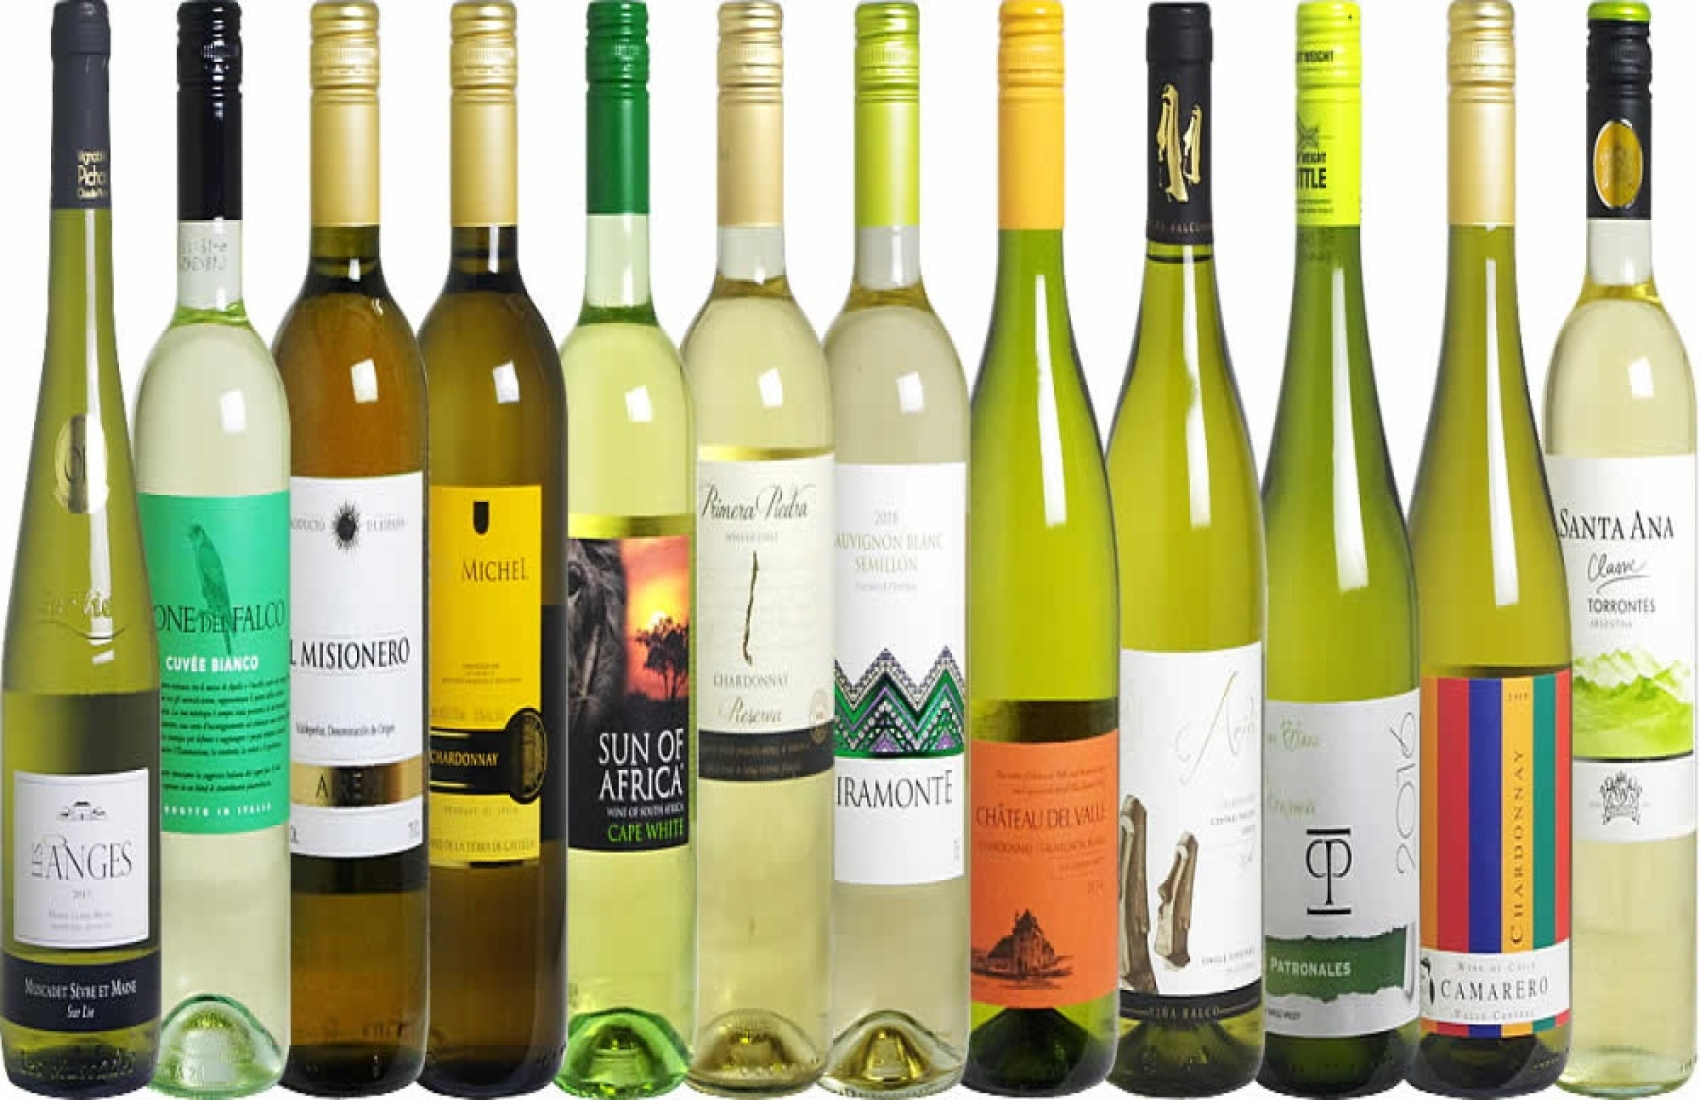wine: (694, 24, 838, 1086), (1118, 24, 1261, 1086), (826, 37, 970, 1100), (423, 37, 566, 1100), (2, 37, 146, 1100), (147, 22, 291, 1085), (1548, 12, 1691, 1075), (1419, 37, 1562, 1100), (970, 27, 1113, 1090), (556, 37, 699, 1100), (283, 37, 425, 1100)
